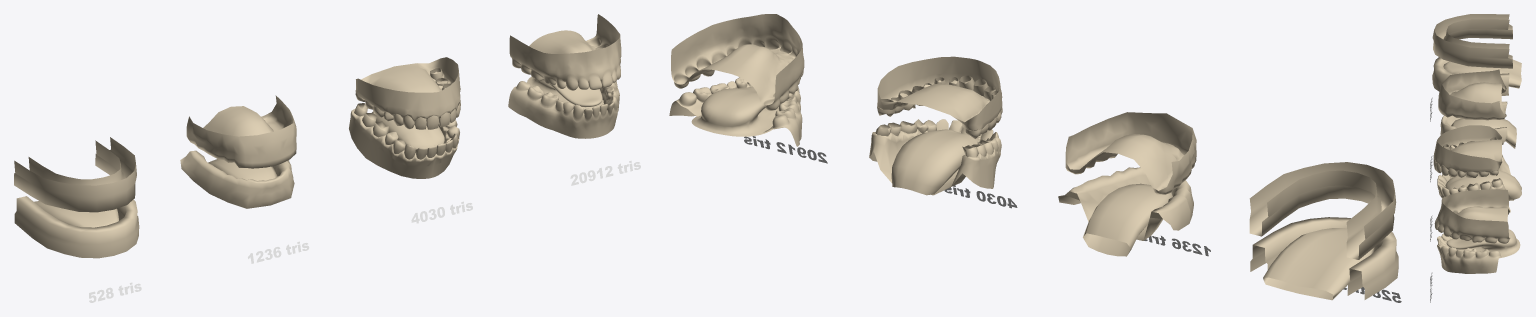
Rendered from filling.glb.
3 renders of one model, left to right at view 1: azimuth 30°, elevation 25°; view 2: azimuth 150°, elevation 25°; view 3: azimuth 270°, elevation 25°, orthographic. The views are drawn at different scales.
Visible parts, largest first — view 1: polySurface53, polySurface63, polySurface23, polySurface24, polySurface25, polySurface39, polySurface62, polySurface22, polySurface26, polySurface64, polySurface44, polySurface21 (+1 smaller); view 2: polySurface63, polySurface24, polySurface53, polySurface23, polySurface26, polySurface39, polySurface25, polySurface21, polySurface44, polySurface22, polySurface64, polySurface62 (+1 smaller); view 3: polySurface24, polySurface63, polySurface53, polySurface23, polySurface62, polySurface44, polySurface64, polySurface39, polySurface26, polySurface21, polySurface25, polySurface22.
Boxes of the visible parts, left/top/right/bottom form: polySurface53: left=355, top=57, right=460, bottom=129; polySurface63: left=509, top=14, right=621, bottom=90; polySurface23: left=186, top=95, right=296, bottom=168; polySurface24: left=14, top=137, right=136, bottom=212; polySurface25: left=14, top=177, right=139, bottom=258; polySurface39: left=349, top=103, right=459, bottom=178; polySurface62: left=508, top=81, right=619, bottom=138; polySurface22: left=180, top=150, right=294, bottom=208; polySurface26: left=34, top=201, right=118, bottom=227; polySurface64: left=527, top=76, right=603, bottom=109; polySurface44: left=372, top=111, right=444, bottom=149; polySurface21: left=208, top=159, right=277, bottom=180; polySurface63: left=671, top=14, right=804, bottom=110; polySurface24: left=1249, top=162, right=1396, bottom=259; polySurface53: left=877, top=56, right=1002, bottom=138; polySurface23: left=1065, top=112, right=1196, bottom=194; polySurface26: left=1263, top=228, right=1374, bottom=300; polySurface39: left=869, top=119, right=1001, bottom=195; polySurface25: left=1250, top=217, right=1398, bottom=299; polySurface21: left=1083, top=183, right=1172, bottom=256; polySurface44: left=891, top=129, right=980, bottom=195; polySurface22: left=1058, top=167, right=1193, bottom=240; polySurface64: left=691, top=86, right=778, bottom=136; polySurface62: left=669, top=77, right=802, bottom=146; polySurface24: left=1432, top=14, right=1512, bottom=68; polySurface63: left=1434, top=189, right=1510, bottom=243; polySurface53: left=1433, top=125, right=1502, bottom=177; polySurface23: left=1438, top=69, right=1506, bottom=120; polySurface62: left=1437, top=233, right=1501, bottom=273; polySurface44: left=1445, top=170, right=1521, bottom=199; polySurface64: left=1446, top=229, right=1520, bottom=258; polySurface39: left=1437, top=154, right=1513, bottom=200; polySurface26: left=1443, top=59, right=1521, bottom=88; polySurface21: left=1451, top=118, right=1516, bottom=148; polySurface25: left=1432, top=47, right=1509, bottom=95; polySurface22: left=1440, top=101, right=1507, bottom=144.
Bounding box in the file's own units: 0.6035 × 0.1198 × 0.1092.
